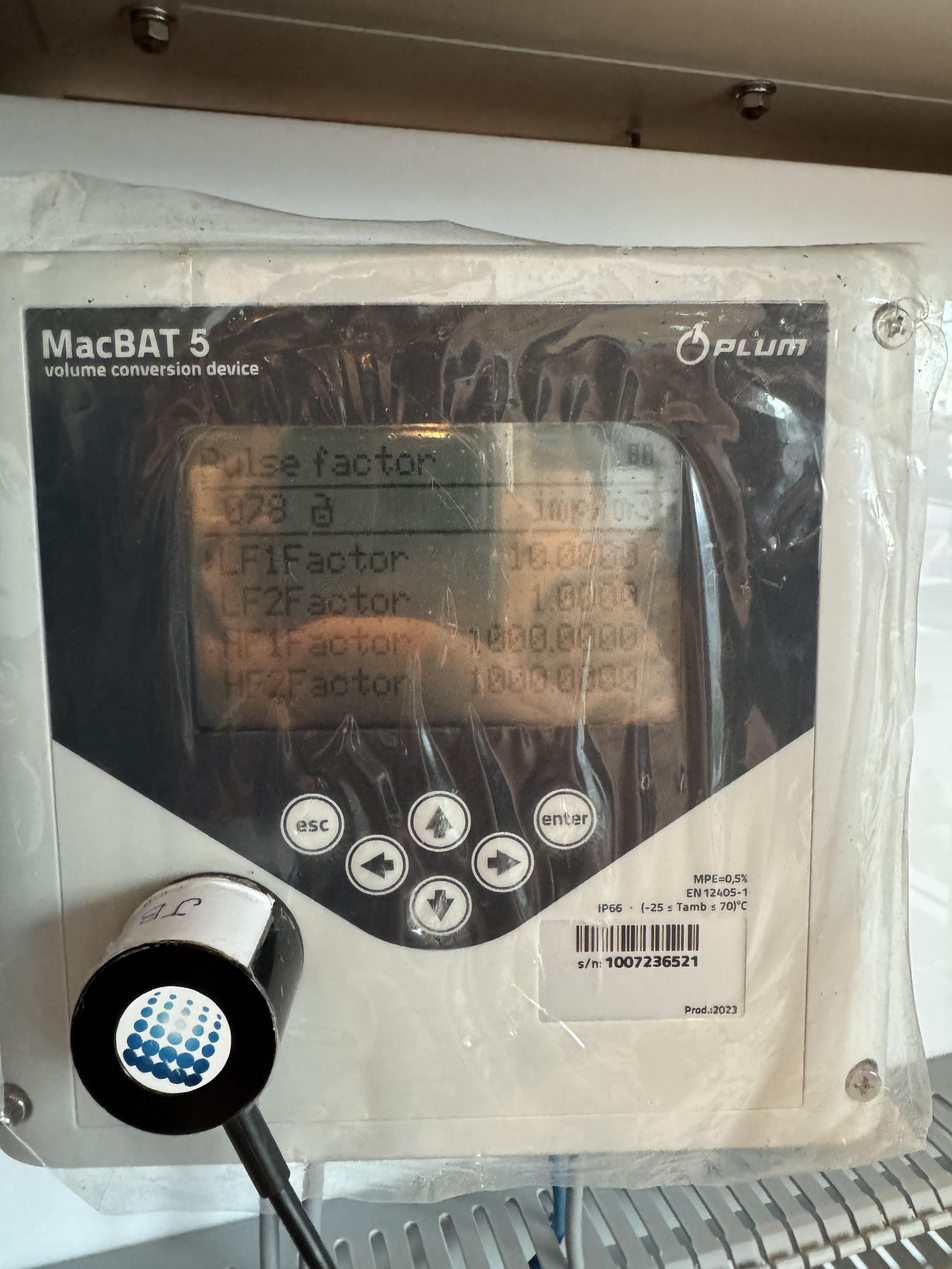digital_screen: (186, 426, 682, 729)
